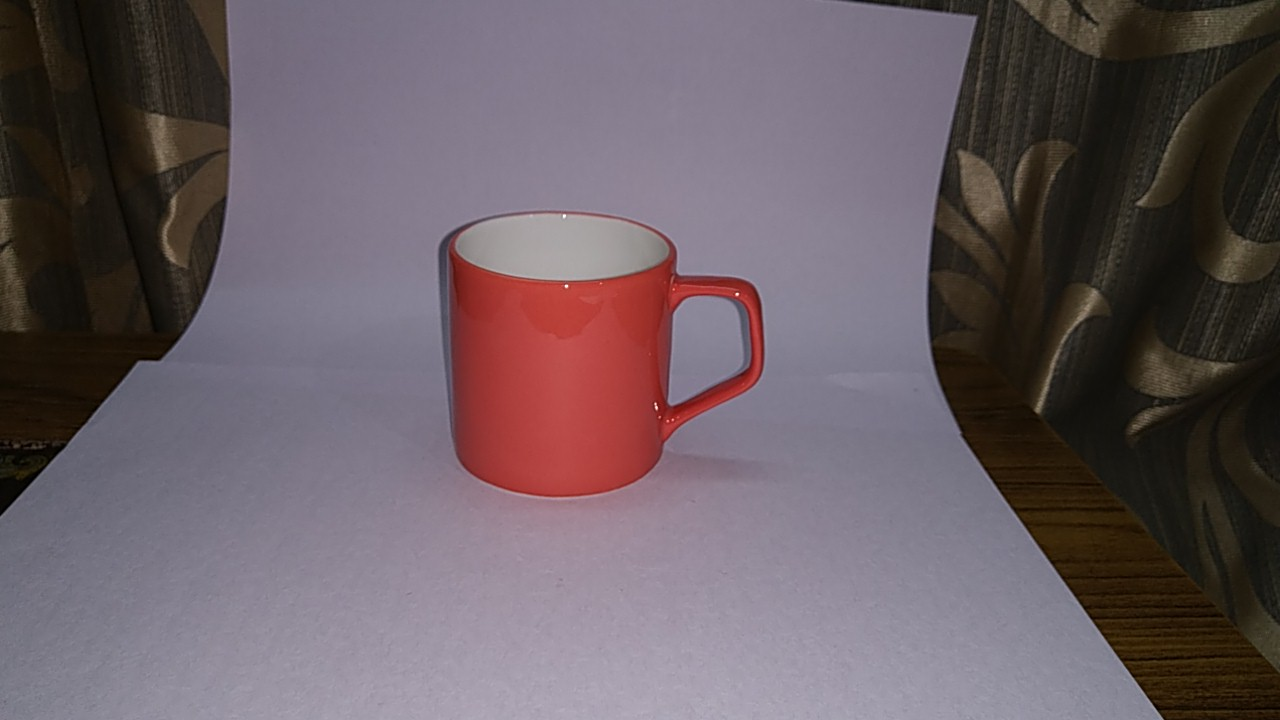cup: (430, 206, 783, 514)
